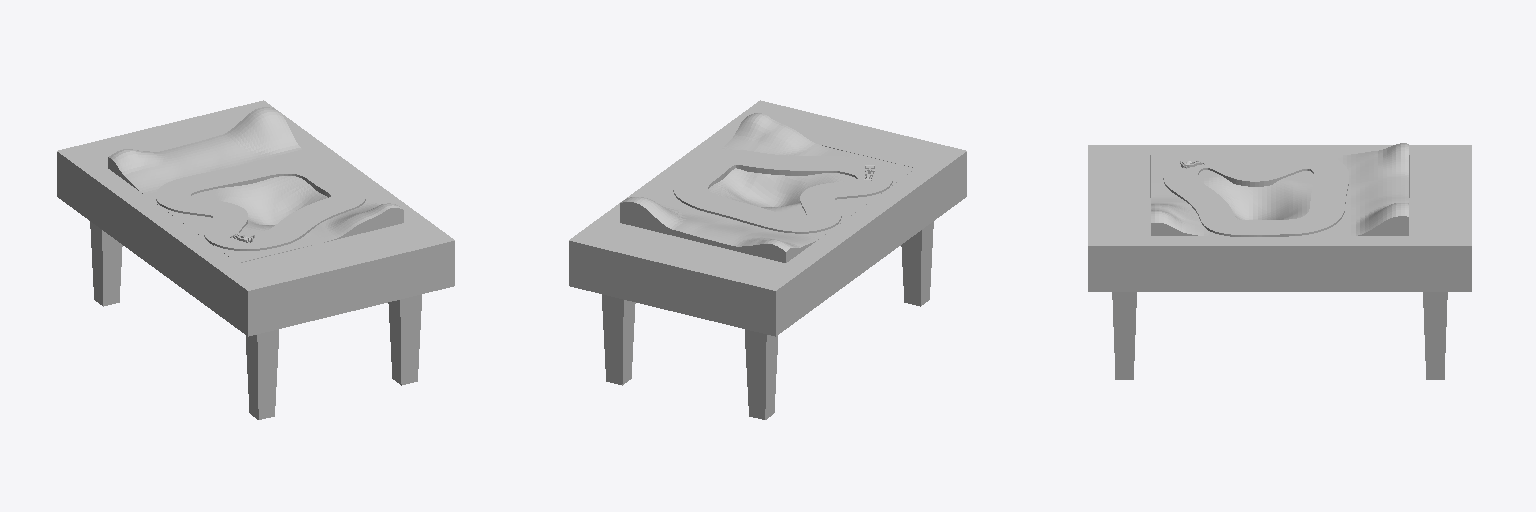
File: NewestTisch63.obj
3 renders of one model, left to right at view 1: azimuth 30°, elevation 25°; view 2: azimuth 150°, elevation 25°; view 3: azimuth 270°, elevation 25°, orthographic.
Parts seen in each view (by area): view 1: Tischplatte_wood_table_001, Landschaft_aerial_grass_rock, off, Bein1_wood_table_001, Bein4_wood_table_001.003, Bein3_wood_table_001.002; view 2: Tischplatte_wood_table_001, Landschaft_aerial_grass_rock, off, Bein2_wood_table_001.001, Bein3_wood_table_001.002, Bein4_wood_table_001.003; view 3: Tischplatte_wood_table_001, Landschaft_aerial_grass_rock, off, Bein1_wood_table_001, Bein2_wood_table_001.001.
Part boxes in pixels (x1,y1,x2,y2): Tischplatte_wood_table_001: (57, 100, 454, 336); Landschaft_aerial_grass_rock: (108, 107, 403, 262); off: (156, 159, 365, 250); Bein1_wood_table_001: (388, 294, 421, 385); Bein4_wood_table_001.003: (246, 329, 278, 419); Bein3_wood_table_001.002: (90, 221, 122, 306); Tischplatte_wood_table_001: (569, 100, 966, 336); Landschaft_aerial_grass_rock: (620, 113, 915, 262); off: (673, 150, 892, 233); Bein2_wood_table_001.001: (602, 294, 635, 385); Bein3_wood_table_001.002: (745, 329, 777, 419); Bein4_wood_table_001.003: (901, 221, 933, 306); Tischplatte_wood_table_001: (1088, 145, 1471, 291); Landschaft_aerial_grass_rock: (1151, 143, 1408, 235); off: (1163, 153, 1348, 236); Bein1_wood_table_001: (1112, 292, 1136, 379); Bein2_wood_table_001.001: (1423, 292, 1447, 379).
Size of the model in its own units: 5 by 3.91 by 8.